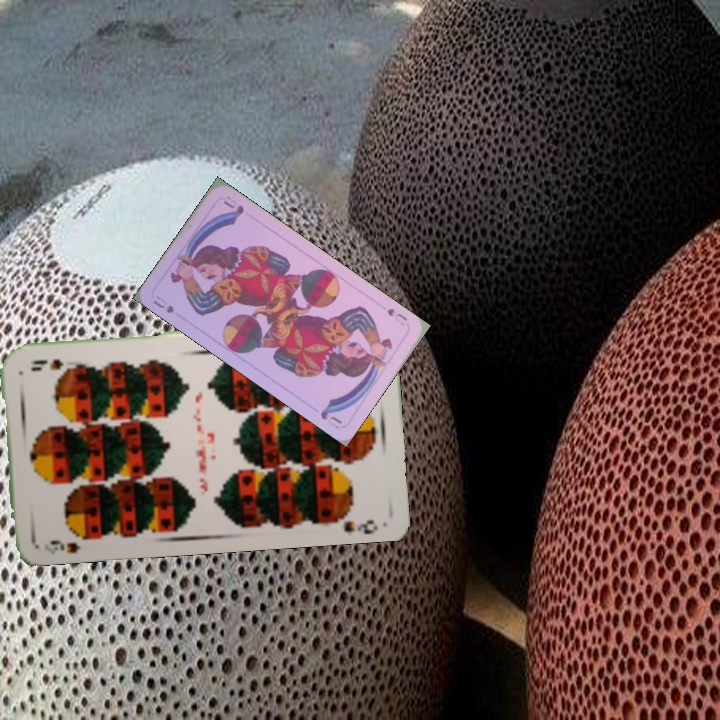S9: (40, 527, 94, 556)
SU: (149, 291, 177, 316), (383, 304, 410, 328)
